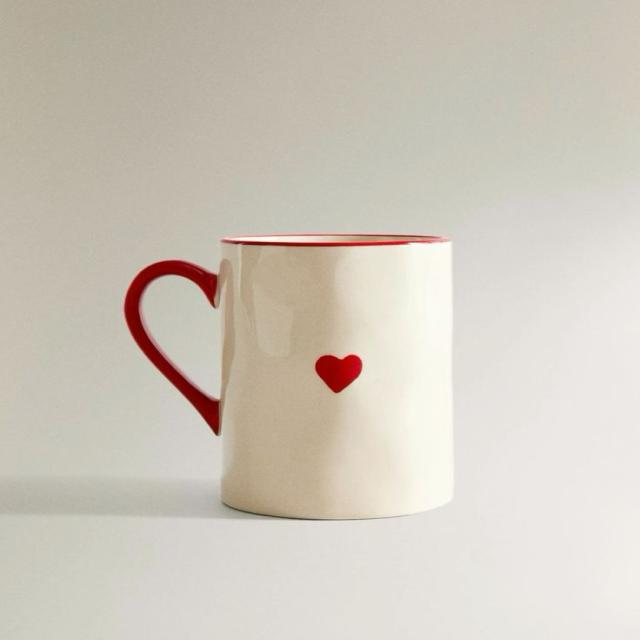glass cup: (124, 234, 454, 521)
